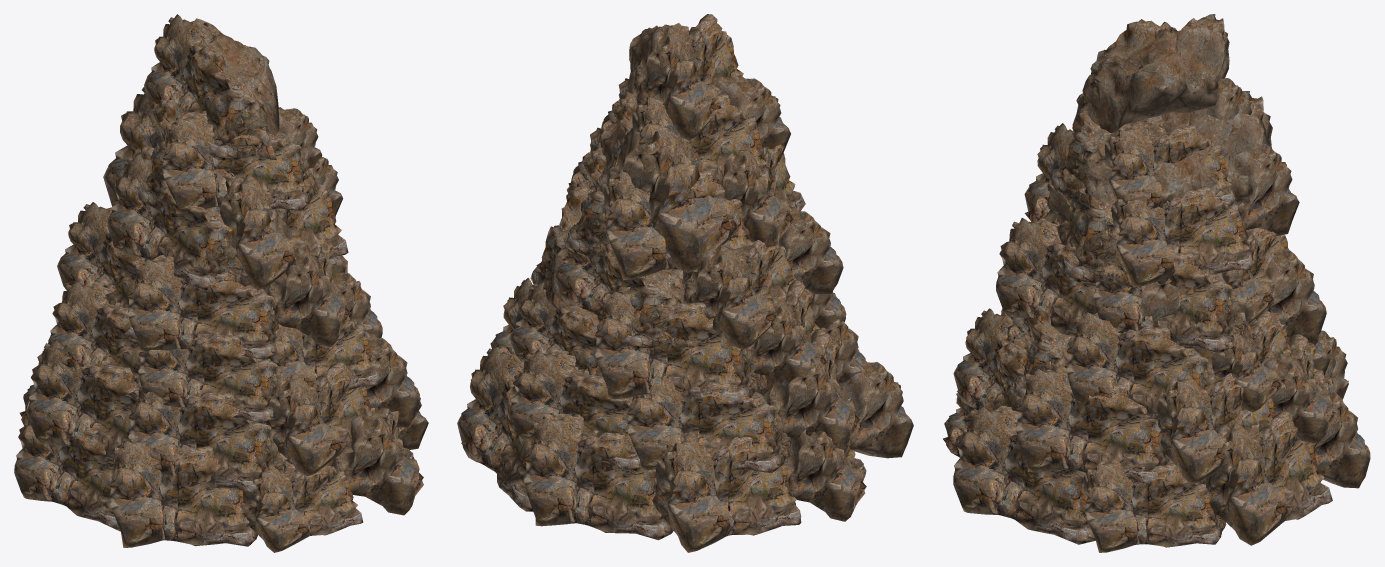
Rendered from cliff-small.glb.
3 renders of one model, left to right at view 1: azimuth 30°, elevation 25°; view 2: azimuth 150°, elevation 25°; view 3: azimuth 270°, elevation 25°, orthographic. The views are drawn at different scales.
Parts seen in each view (by area): view 1: cliff-small_Stone; view 2: cliff-small_Stone; view 3: cliff-small_Stone.
Part boxes in pixels (x1,y1,x2,y2): cliff-small_Stone: (14, 14, 428, 552); cliff-small_Stone: (457, 14, 913, 552); cliff-small_Stone: (943, 14, 1370, 552).
Size of the model in its own units: 6.92 by 8 by 6.83.
1 material, 1 textured.
